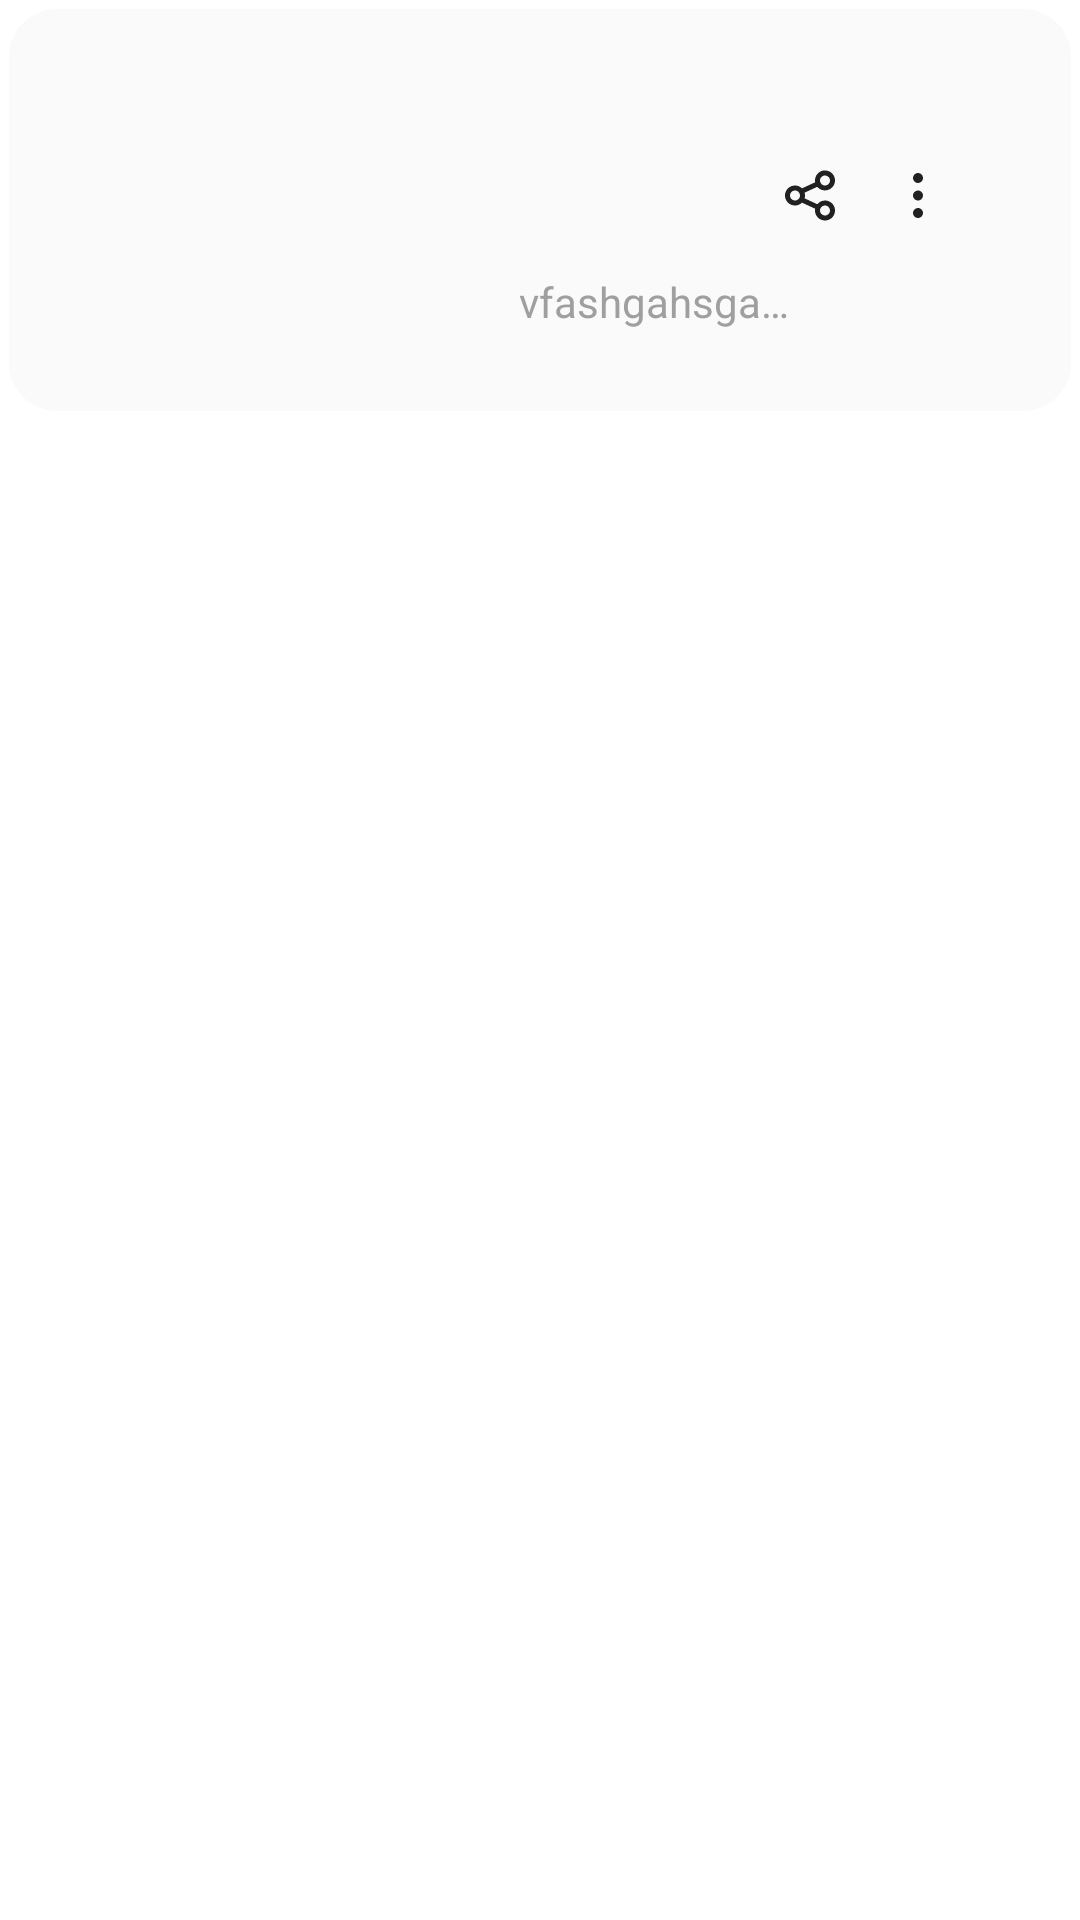

Icons on this 1080px x 1920px Android screen, each with the point to tap as (x=x, y=y):
share: (x=810, y=195)
